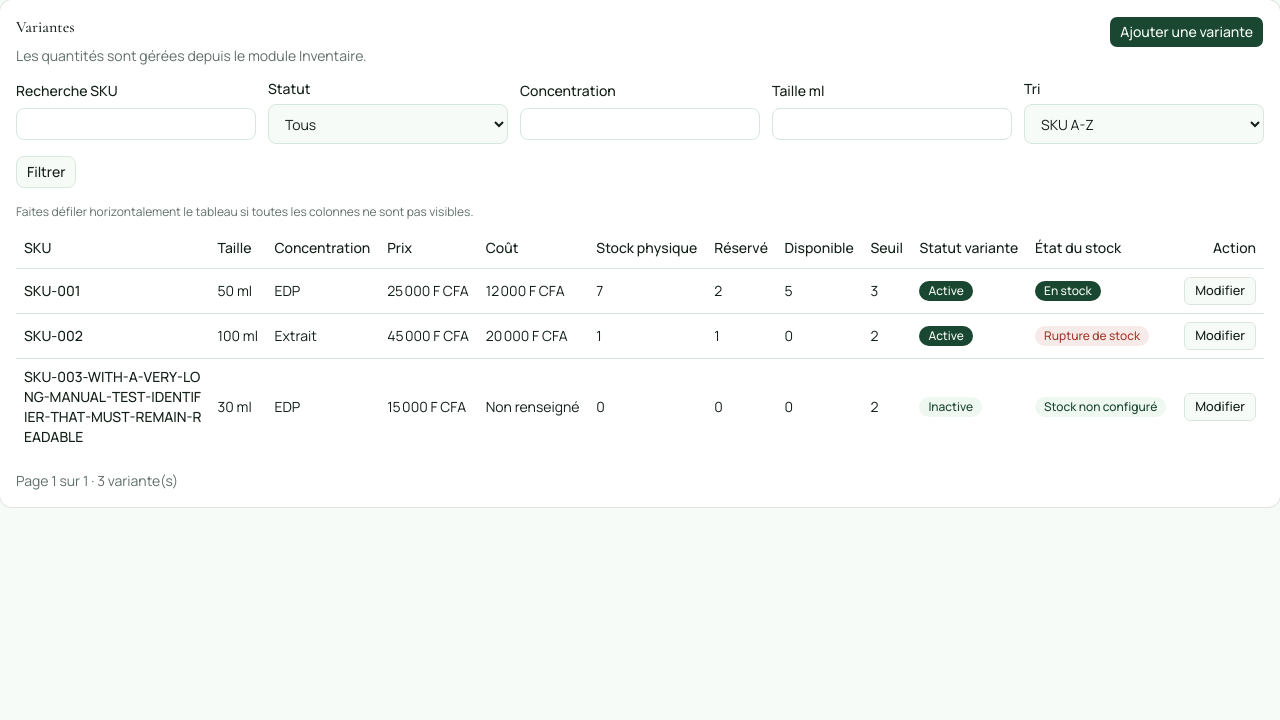
Test: VariantEditor › does not render edit forms for all variants until a dialog is opened
Click the button "Modifier" in the row of "SKU-001" at (1220, 290), box [1184,276,1256,304]
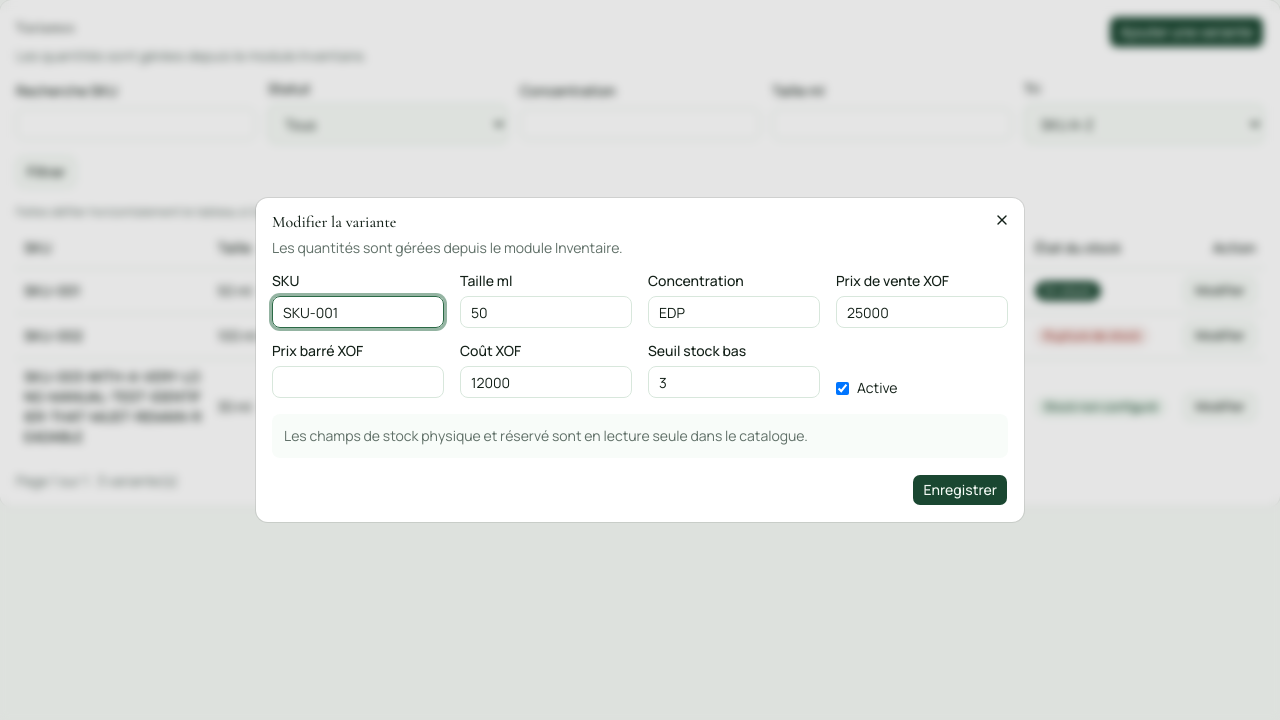
Result: the dialog is shown at [256,198,1024,522]
Result: the field showing "SKU-001" is shown at [272,296,444,328]
Result: the field labelled "Coût XOF" is shown at [460,366,632,398]
